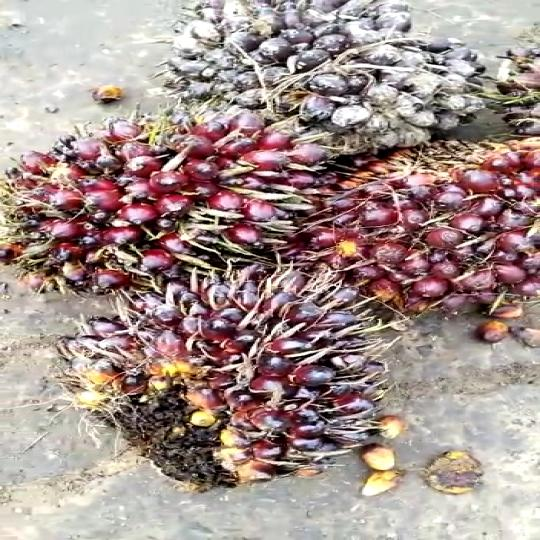kurang masak: (101, 258, 406, 510), (0, 110, 299, 287), (180, 0, 456, 159), (329, 136, 540, 332)
